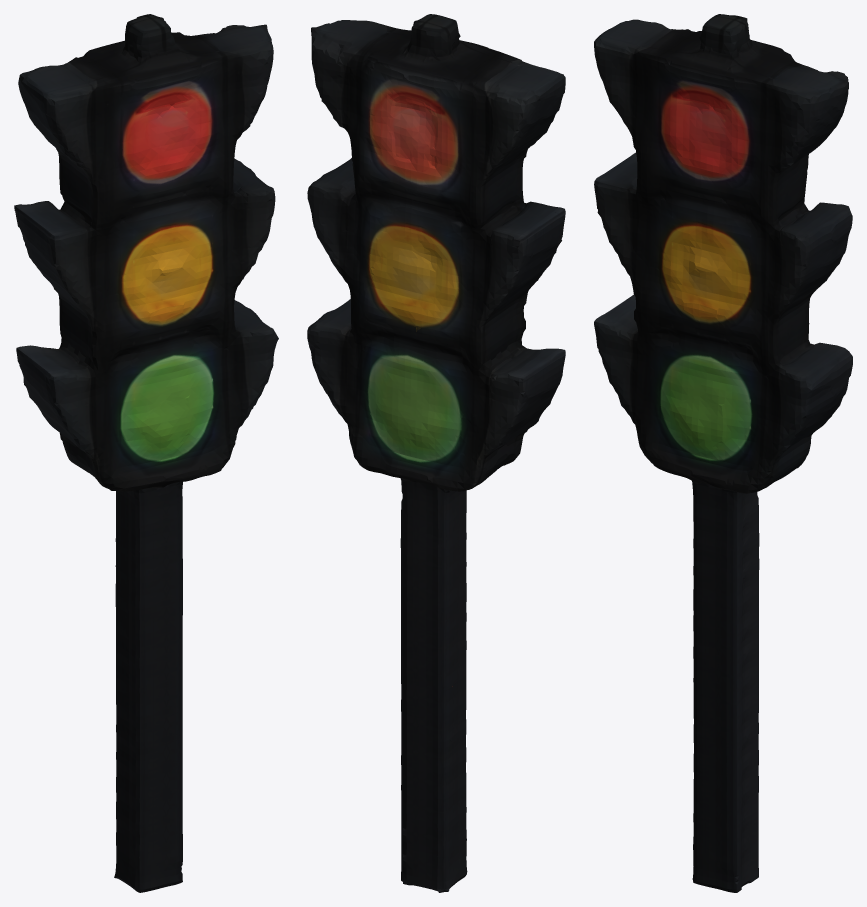
The model's file is traffic_light.obj.
3 renders of one model, left to right at view 1: azimuth 30°, elevation 25°; view 2: azimuth 150°, elevation 25°; view 3: azimuth 330°, elevation 25°, orthographic.
Parts seen in each view (by area): view 1: traffic_light; view 2: traffic_light; view 3: traffic_light.
Boxes of the visible parts, x1=… form: traffic_light: x1=14, y1=14, x2=278, y2=892; traffic_light: x1=307, y1=14, x2=565, y2=892; traffic_light: x1=594, y1=14, x2=852, y2=892.
Bounding box in the file's own units: 0.5702 × 1.96 × 0.2085.
1 material, 1 textured.
